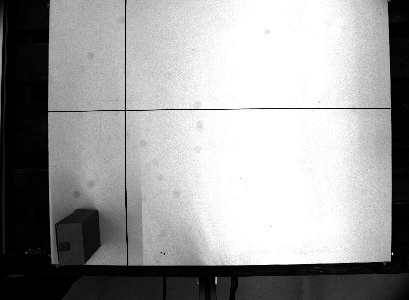b6: (52, 205, 101, 268)
